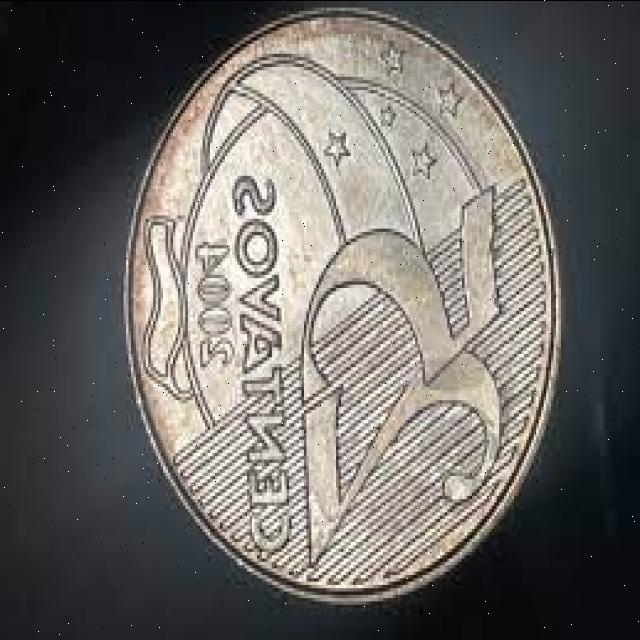25 cent: (128, 5, 564, 605)
